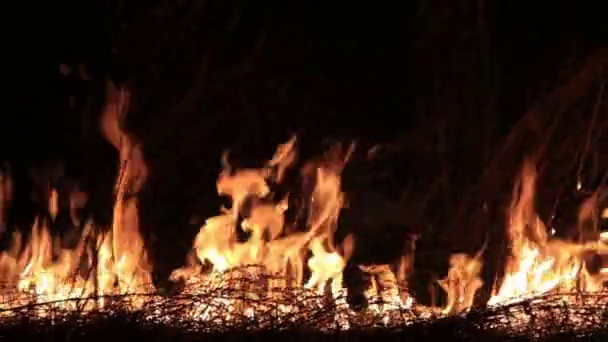fire: (167, 144, 353, 326), (488, 170, 606, 324), (94, 117, 161, 307), (1, 222, 90, 315), (364, 263, 412, 327), (443, 252, 481, 315)
